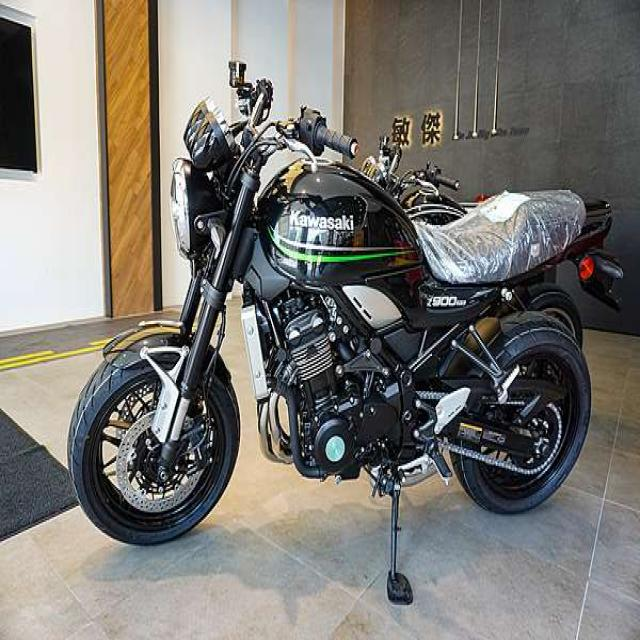Bike: (69, 62, 621, 603)
